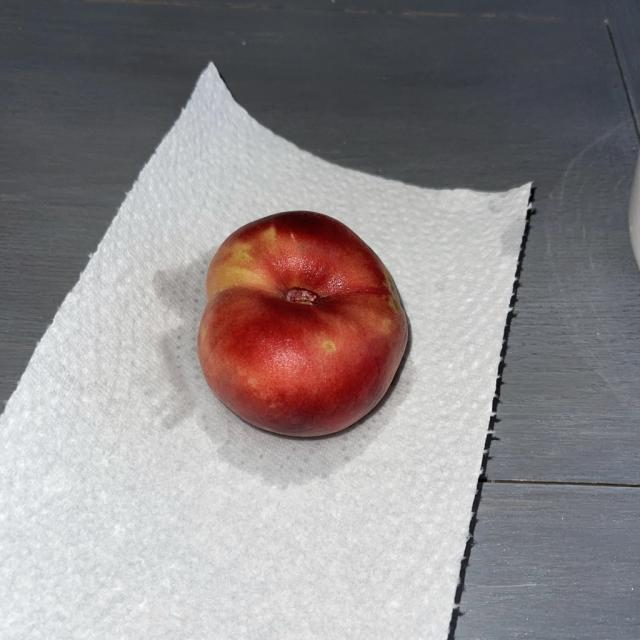peach: (197, 217, 401, 432)
